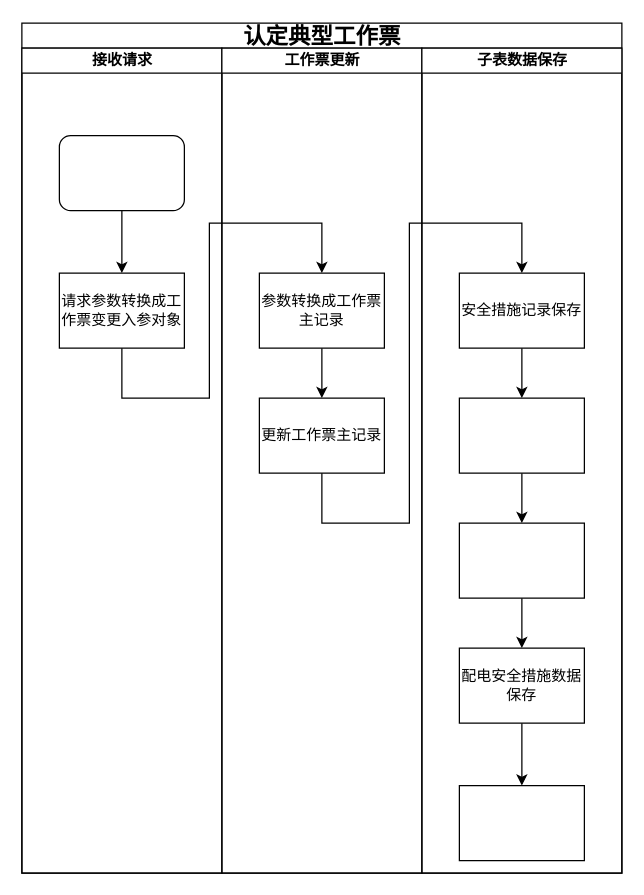
Some shapes in this 644 by 895 pixel diagram are drawn without their labels. The shapes that lost their labels are listed below. From the top down, each one's centre as x and y in pixels, then its label:
At point (121, 172): "开始".
At point (521, 435): "工作终结数据保存".
At point (521, 560): "工作许可数据保存".
At point (521, 822): "成功返回".
